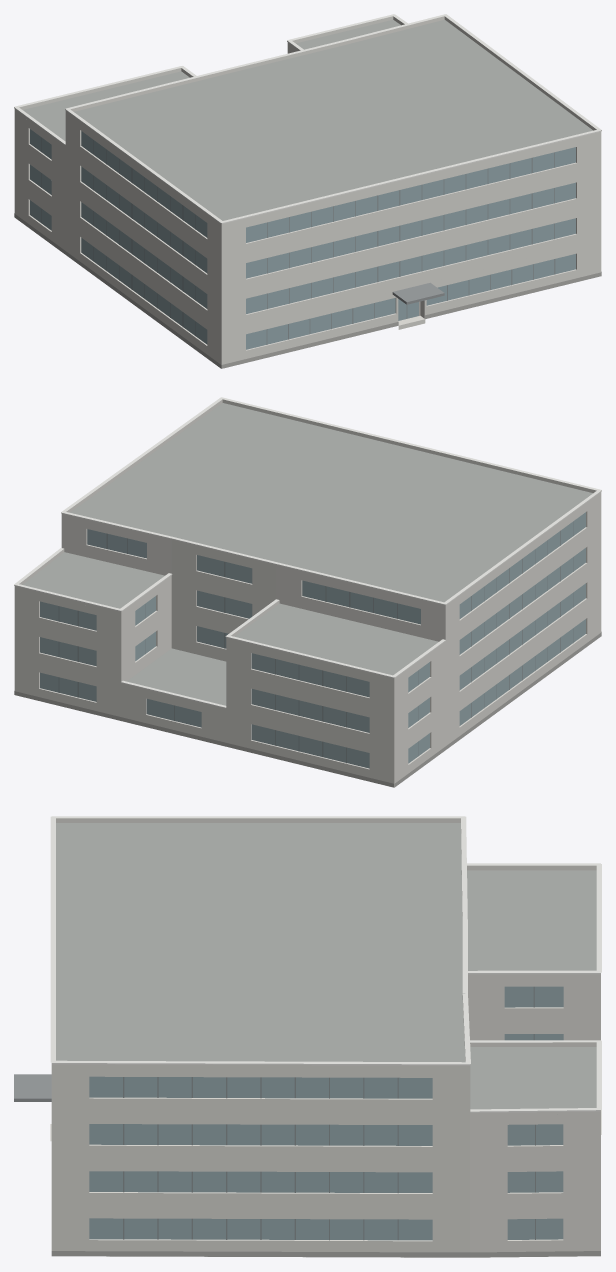
The picture shows the model from 3 angles, top to bottom: view 1: azimuth 30°, elevation 25°; view 2: azimuth 150°, elevation 25°; view 3: azimuth 270°, elevation 25°; orthographic projection. The views are drawn at different scales.
Parts seen in each view (by area): view 1: b743648662__roof, b743648662__wall, b743648662__glass, b743648662__parapet, b743648662__trim, b743648662__base, b743648662__frame, b743648662__canopy; view 2: b743648662__roof, b743648662__wall, b743648662__glass, b743648662__trim, b743648662__parapet, b743648662__base, b743648662__frame; view 3: b743648662__roof, b743648662__wall, b743648662__glass, b743648662__trim, b743648662__parapet, b743648662__base, b743648662__frame, b743648662__canopy.
Boxes of the visible parts, bbox=[...] form: b743648662__roof: bbox=[23, 19, 592, 220]; b743648662__wall: bbox=[14, 44, 601, 368]; b743648662__glass: bbox=[30, 129, 575, 349]; b743648662__parapet: bbox=[14, 16, 601, 226]; b743648662__trim: bbox=[14, 14, 601, 223]; b743648662__base: bbox=[14, 213, 601, 368]; b743648662__frame: bbox=[41, 137, 555, 344]; b743648662__canopy: bbox=[392, 282, 444, 304]; b743648662__roof: bbox=[22, 403, 592, 705]; b743648662__wall: bbox=[14, 494, 601, 787]; b743648662__glass: bbox=[40, 512, 585, 768]; b743648662__trim: bbox=[14, 397, 601, 708]; b743648662__parapet: bbox=[14, 399, 601, 710]; b743648662__base: bbox=[14, 632, 601, 787]; b743648662__frame: bbox=[58, 521, 573, 763]; b743648662__roof: bbox=[56, 823, 596, 1257]; b743648662__wall: bbox=[51, 977, 600, 1252]; b743648662__glass: bbox=[89, 986, 563, 1240]; b743648662__trim: bbox=[50, 816, 601, 1134]; b743648662__parapet: bbox=[51, 818, 600, 1115]; b743648662__base: bbox=[51, 1251, 600, 1257]; b743648662__frame: bbox=[123, 986, 535, 1240]; b743648662__canopy: bbox=[14, 1074, 51, 1101].
Size of the model in its own units: 40.57 by 15.15 by 40.63.
